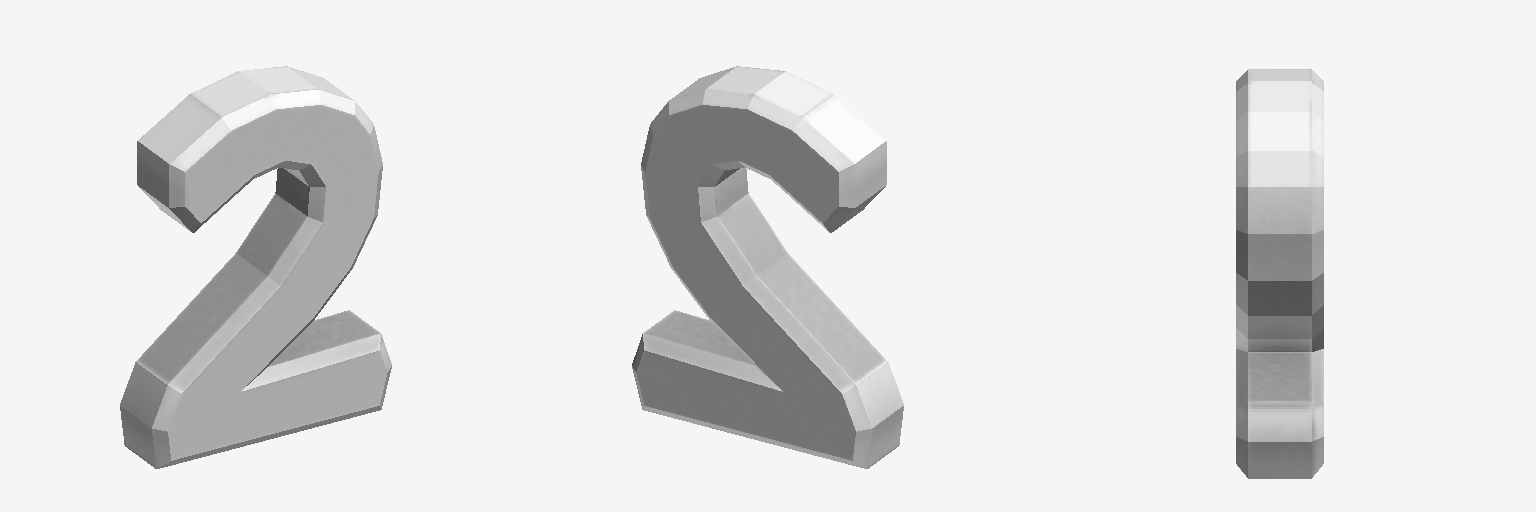
3 renders of one model, left to right at view 1: azimuth 30°, elevation 25°; view 2: azimuth 150°, elevation 25°; view 3: azimuth 270°, elevation 25°, orthographic.
Parts seen in each view (by area): view 1: Number_2; view 2: Number_2; view 3: Number_2.
Part boxes in pixels (x1,y1,x2,y2): Number_2: (120, 66, 391, 468); Number_2: (632, 66, 903, 468); Number_2: (1236, 69, 1323, 478).
Size of the model in its own units: 18.81 by 25.94 by 5.91.
Materials: 1 (1 with a texture image).